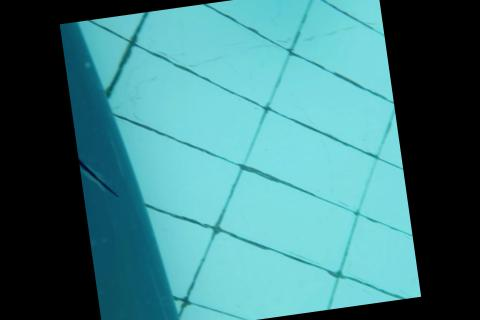keretakan: (77, 147, 121, 199)
